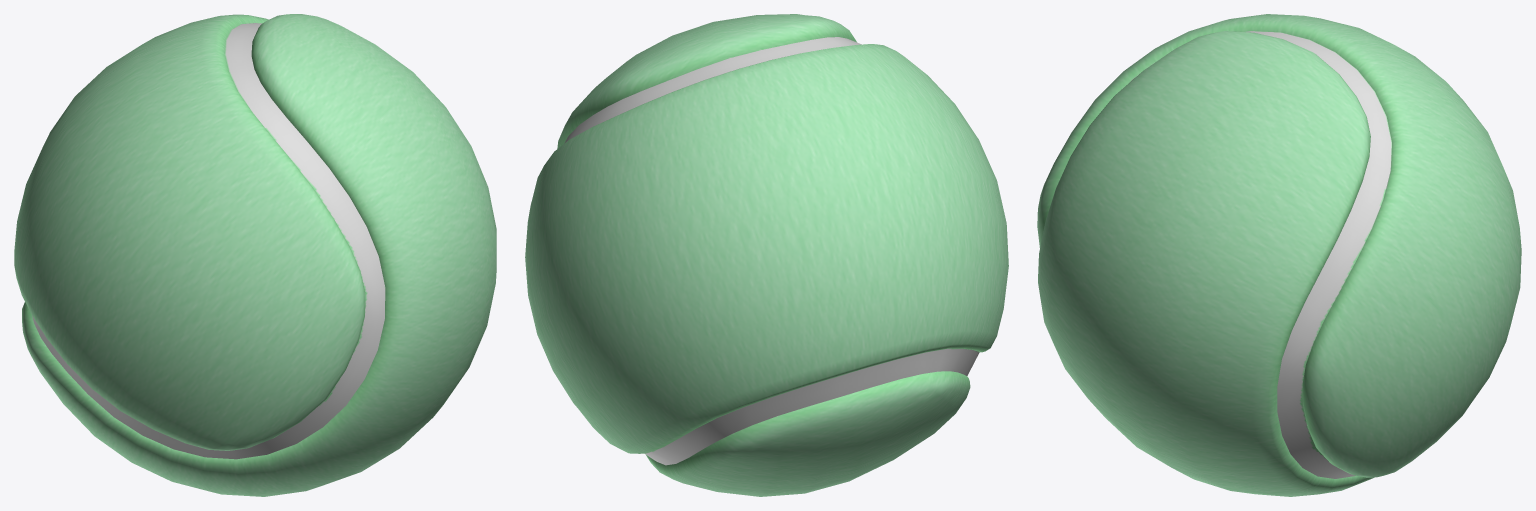
The model's file is model_TenisBall.fbx.
3 views of the same model, side by side, from view 1: azimuth 30°, elevation 25°; view 2: azimuth 150°, elevation 25°; view 3: azimuth 270°, elevation 25° (orthographic).
Parts seen in each view (by area): view 1: model_TenisBall; view 2: model_TenisBall; view 3: model_TenisBall.
Part boxes in pixels (box(x1,y1,x2,y2)): model_TenisBall: box(14, 14, 496, 496); model_TenisBall: box(525, 14, 1008, 496); model_TenisBall: box(1037, 14, 1521, 496).
Bounding box in the file's own units: 107 × 107 × 107.
